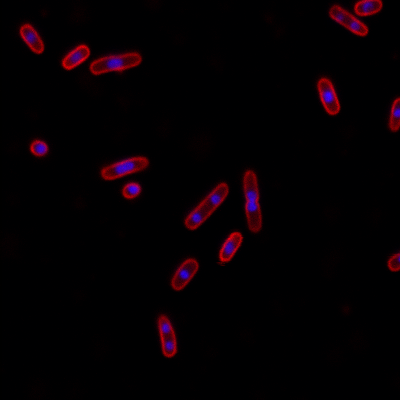CAM: (180, 181, 230, 230), (325, 3, 370, 38), (241, 167, 264, 235), (89, 49, 144, 76), (99, 155, 151, 179), (314, 77, 342, 117), (168, 256, 200, 290), (154, 312, 177, 357), (17, 23, 46, 55), (216, 231, 244, 264), (59, 43, 91, 71)
Oblique: (120, 181, 142, 202), (29, 138, 49, 158)
